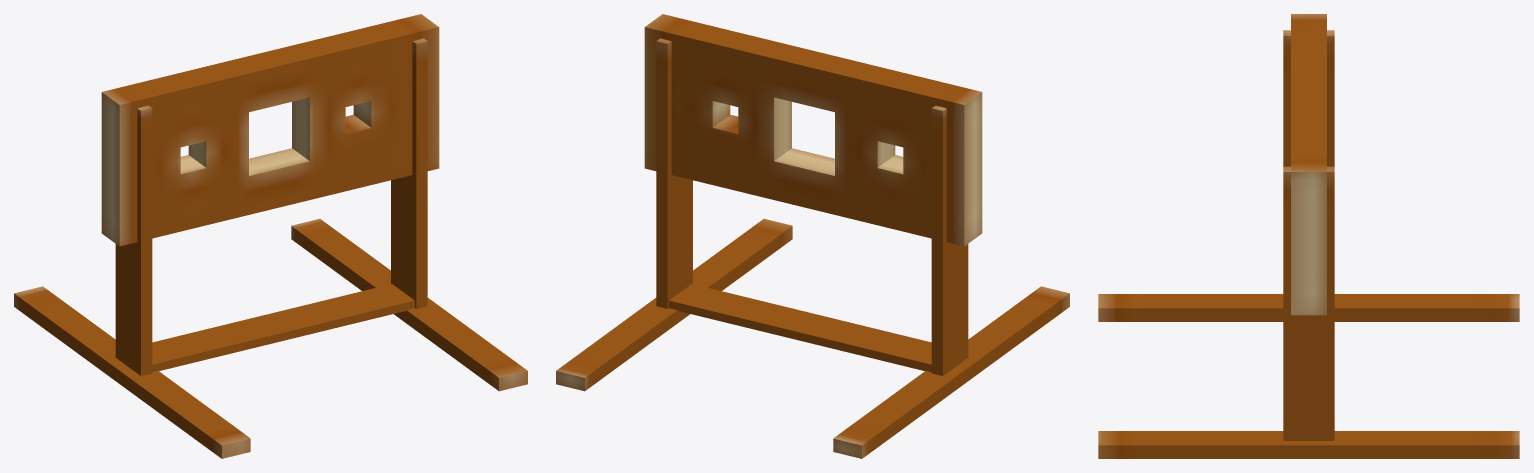
The model's file is kit-stocks.glb.
The picture shows the model from 3 angles, left to right: view 1: azimuth 30°, elevation 25°; view 2: azimuth 150°, elevation 25°; view 3: azimuth 270°, elevation 25°; orthographic projection.
Parts seen in each view (by area): view 1: Cube.330; view 2: Cube.330; view 3: Cube.330.
Part boxes in pixels (box(x1,y1,x2,y2)): Cube.330: box(14, 14, 527, 458); Cube.330: box(556, 14, 1069, 458); Cube.330: box(1098, 14, 1519, 458).
Size of the model in its own units: 1.26 by 1.08 by 1.42.
Materials: 1 (1 with a texture image).
